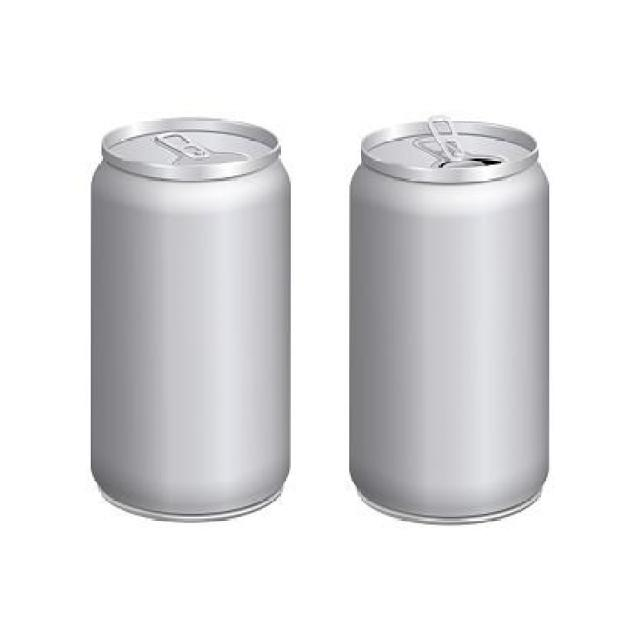non-organic waste: (71, 63, 317, 540), (326, 63, 566, 551)
